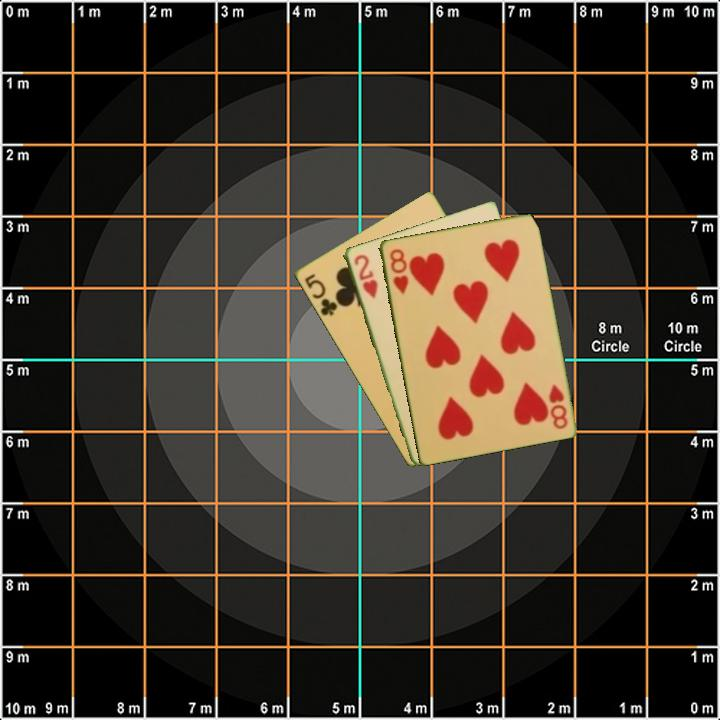2h: (350, 251, 380, 301)
5c: (301, 270, 342, 319)
8h: (386, 245, 411, 297), (545, 381, 570, 432)
